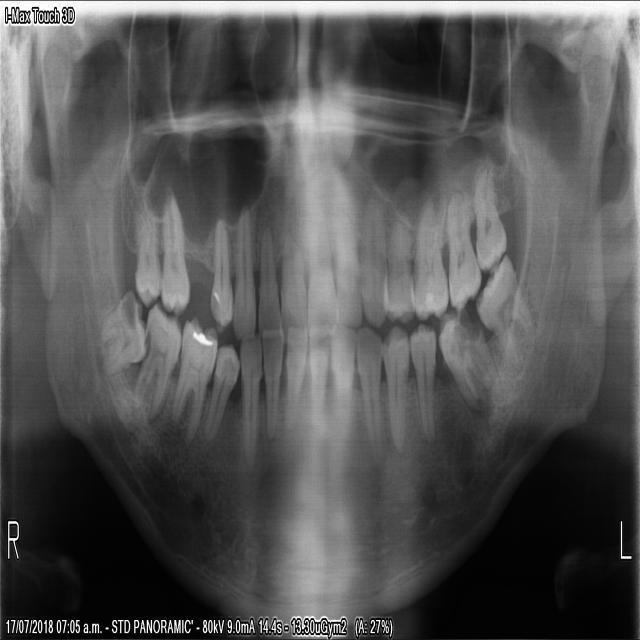LCD: (353, 321, 382, 462)
LCU: (358, 192, 387, 333)
LID: (327, 319, 356, 453), (305, 319, 331, 454)
LIU: (305, 189, 337, 339), (330, 186, 363, 327)
LMD: (436, 302, 500, 417), (473, 252, 532, 366)
LMU: (442, 185, 483, 313), (469, 154, 508, 274)
LPMD: (378, 319, 410, 461), (407, 315, 438, 447)
LPMU: (410, 189, 447, 322), (380, 190, 415, 326)
RCD: (237, 327, 262, 471)
RCU: (231, 202, 256, 342)
RID: (281, 321, 308, 441), (259, 321, 285, 444)
RIU: (277, 203, 305, 338), (255, 211, 281, 345)
RMD: (167, 308, 218, 447), (130, 295, 182, 427), (94, 283, 149, 380)
RMU: (158, 181, 192, 315), (131, 193, 161, 309)
RPMD: (200, 334, 240, 444)
RPMU: (207, 218, 233, 326)
